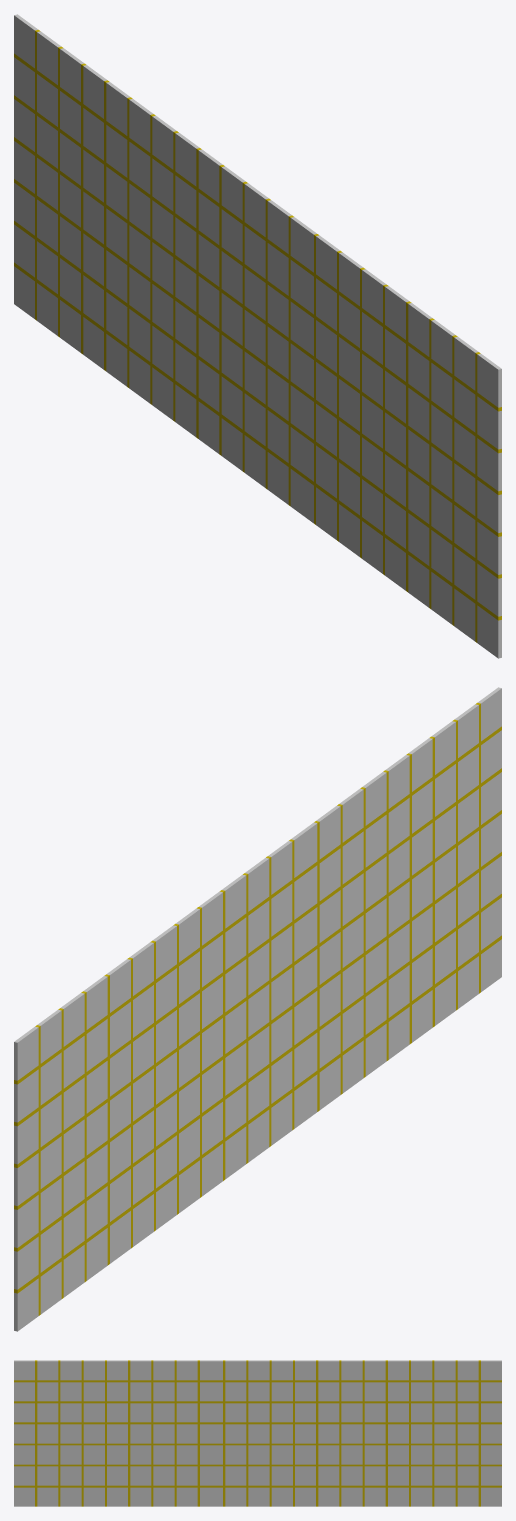
File: WallHoloDeck.fbx
3 renders of one model, top to bottom at view 1: azimuth 30°, elevation 25°; view 2: azimuth 150°, elevation 25°; view 3: azimuth 270°, elevation 25°, orthographic. The views are drawn at different scales.
Parts seen in each view (by area): view 1: Cube; view 2: Cube; view 3: Cube.
Boxes of the visible parts, <box> form: Cube: <box>14,14,501,658</box>; Cube: <box>14,687,501,1331</box>; Cube: <box>14,1360,501,1506</box>.
Bounding box in the file's own units: 0.2 × 15.2 × 46.2.
